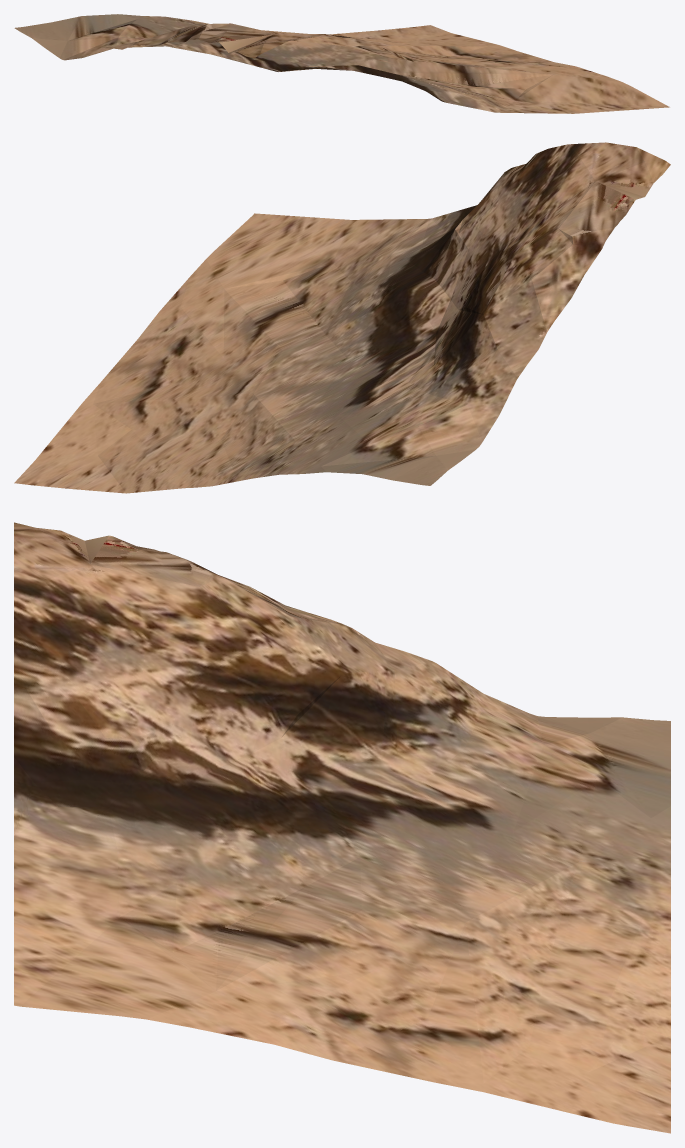
3 views of the same model, one above another, from view 1: azimuth 30°, elevation 25°; view 2: azimuth 150°, elevation 25°; view 3: azimuth 270°, elevation 25° (orthographic). The views are drawn at different scales.
Bounding box in the file's own units: 1.04 × 0.6068 × 1.04.
3 materials, 3 textured.
